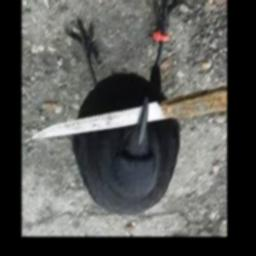Crow: (64, 0, 185, 216)
